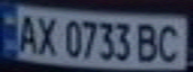0: (60, 16, 84, 58)
3: (112, 19, 136, 63), (97, 19, 118, 62)
7: (78, 17, 100, 60)
A: (12, 10, 42, 55)
B: (133, 20, 163, 63)
C: (154, 20, 187, 63)
X: (33, 12, 60, 56)
